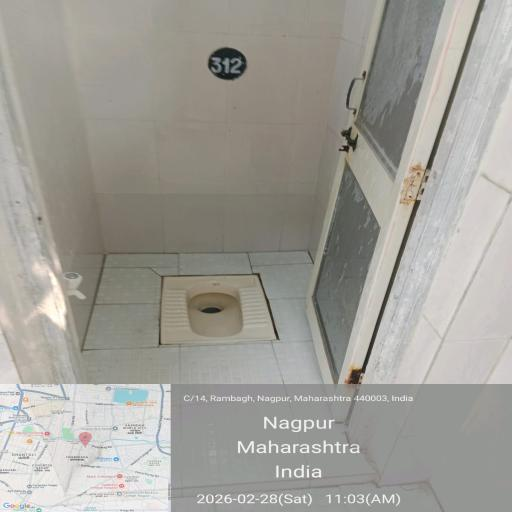clean_floor: (10, 0, 435, 263), (40, 330, 413, 487)
clean_indian: (149, 264, 287, 352)
